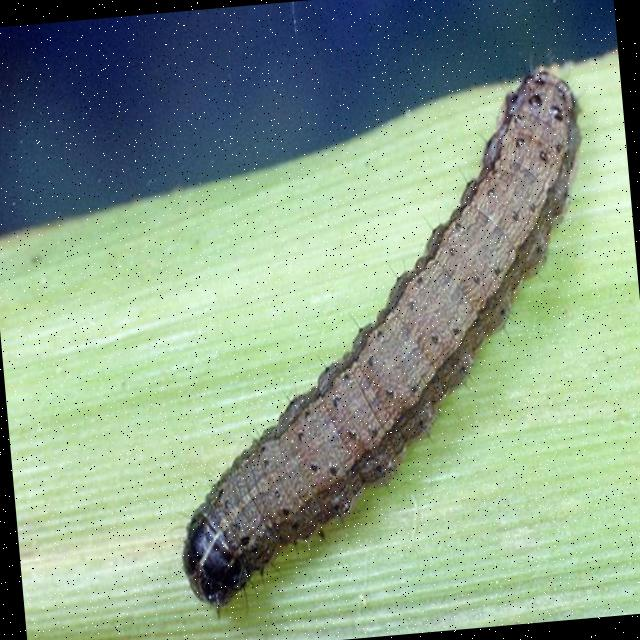worm: (143, 65, 625, 625)
